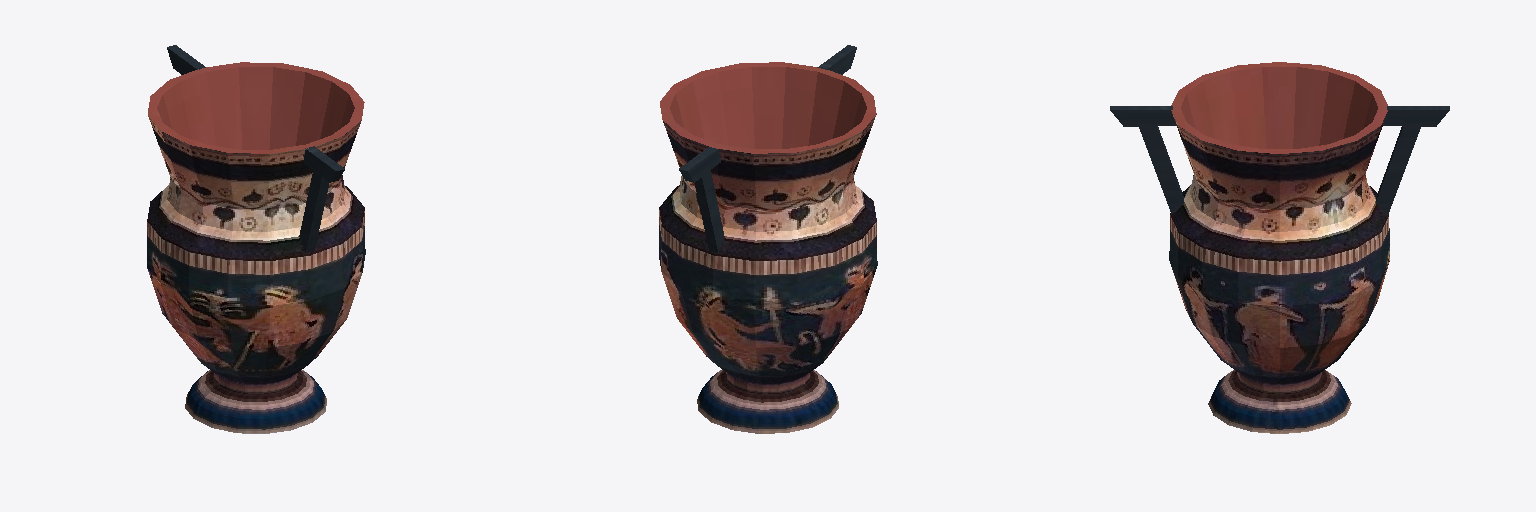
3 renders of one model, left to right at view 1: azimuth 30°, elevation 25°; view 2: azimuth 150°, elevation 25°; view 3: azimuth 270°, elevation 25°, orthographic.
Visible parts, largest first — view 1: vase1; view 2: vase1; view 3: vase1.
Part boxes in pixels (left/top/right/bottom): vase1: left=147, top=45, right=365, bottom=433; vase1: left=659, top=45, right=877, bottom=433; vase1: left=1110, top=62, right=1449, bottom=433.
Bounding box in the file's own units: 72.9 × 108 × 112.
1 materials, 1 textured.